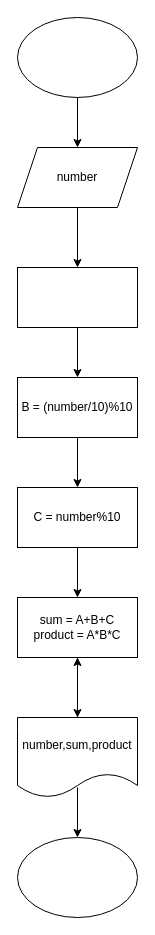
Image size: 155x935. Some labels were removed from this diagram. The centre of each missing label's shape, as x and y in pixels:
A = number/100: pixel 77 297
Конце: pixel 77 877
Начало: pixel 77 57
